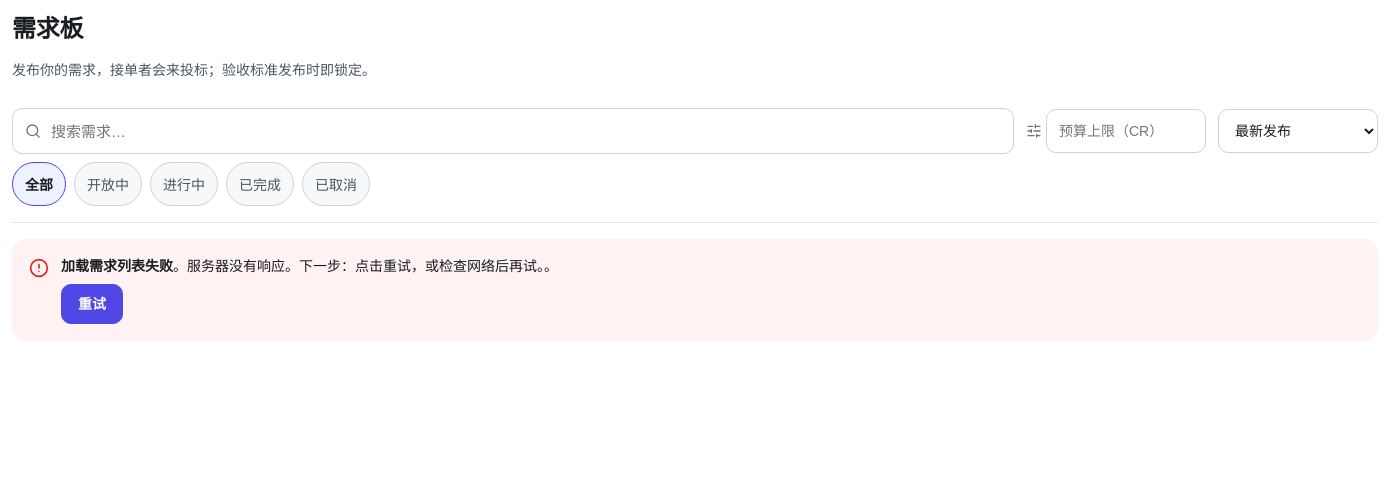
Test case: CommissionsPage（需求板） › 错误态：横幅 + 重试成功
The width and height of the screenshot is (1390, 482).
Expected: the text "加载需求列表失败" is shown, [61, 256, 173, 275]
Click the button "重试".
click(92, 304)  # box [61, 284, 123, 324]
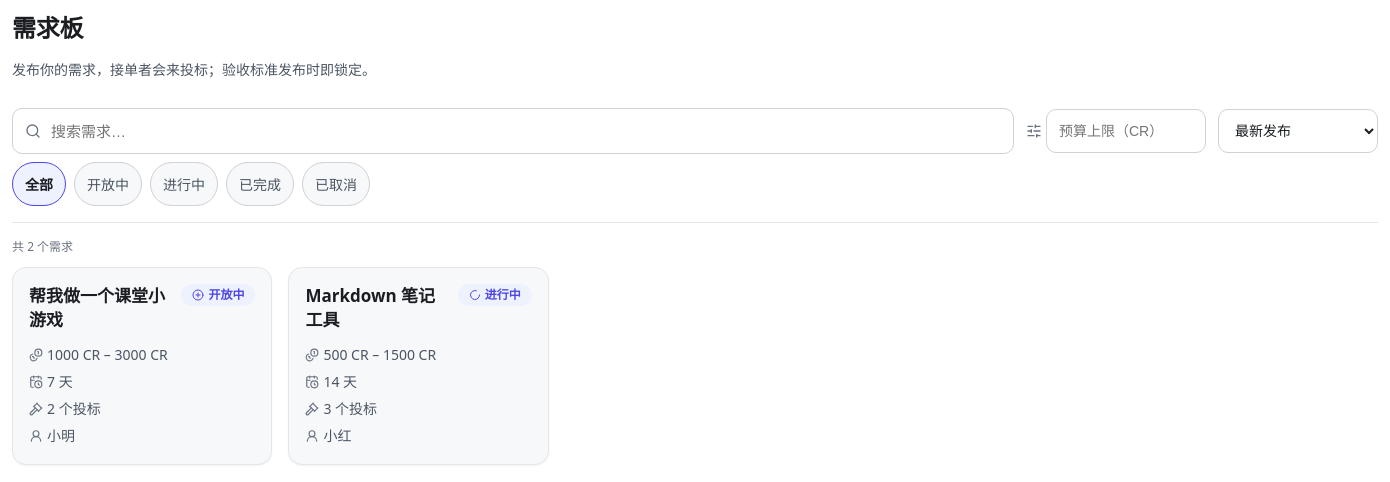
Expected: the heading "帮我做一个课堂小游戏" is shown, [29, 284, 173, 332]
